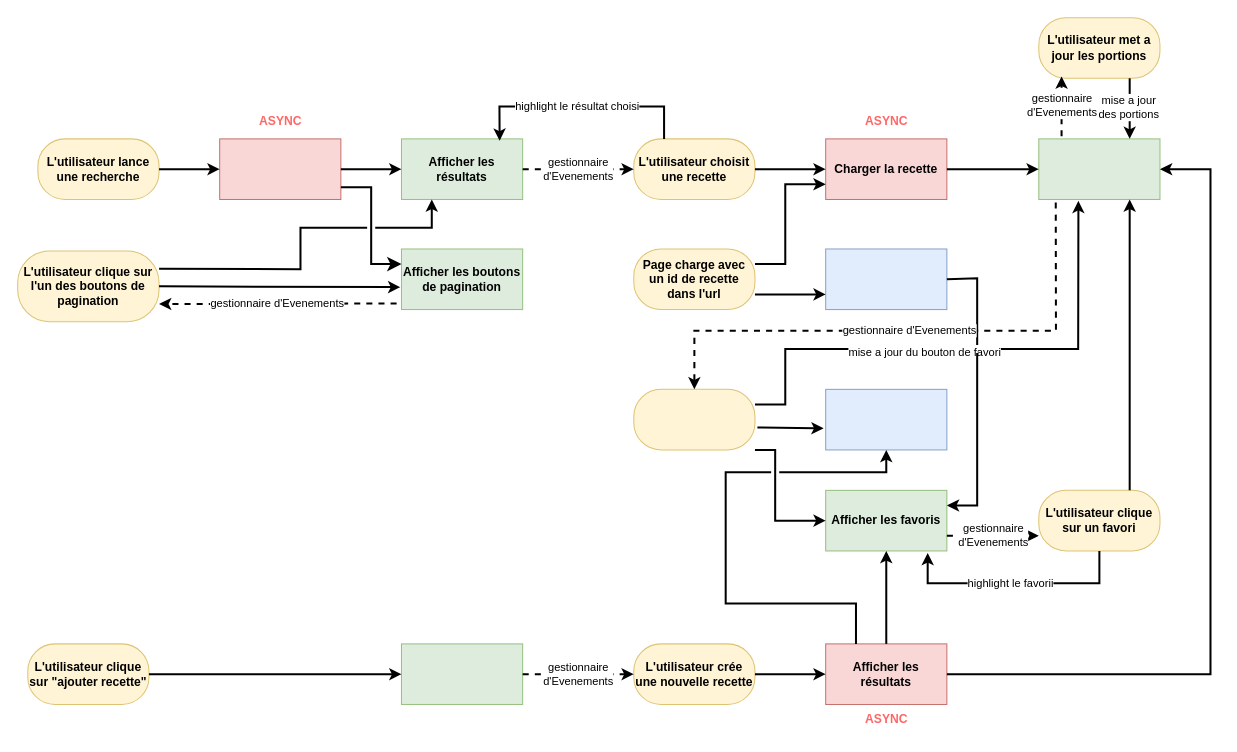
This 1237x752 diagram has some shape labels left out. The shapes that lost their labels are listed below. From the top down, each one's centre as x and y in pixels, then its label:
the point at 280,168: Charger les résultats
the point at 1099,168: Afficher la recette
the point at 886,279: Charger les favoris depuis l'espace de stockage local
the point at 694,419: L'utilisateur met une recette en favori
the point at 886,419: Sauvegarder le favori dans l'espace de stockage local
the point at 461,673: Afficher l'éditeur de recette
